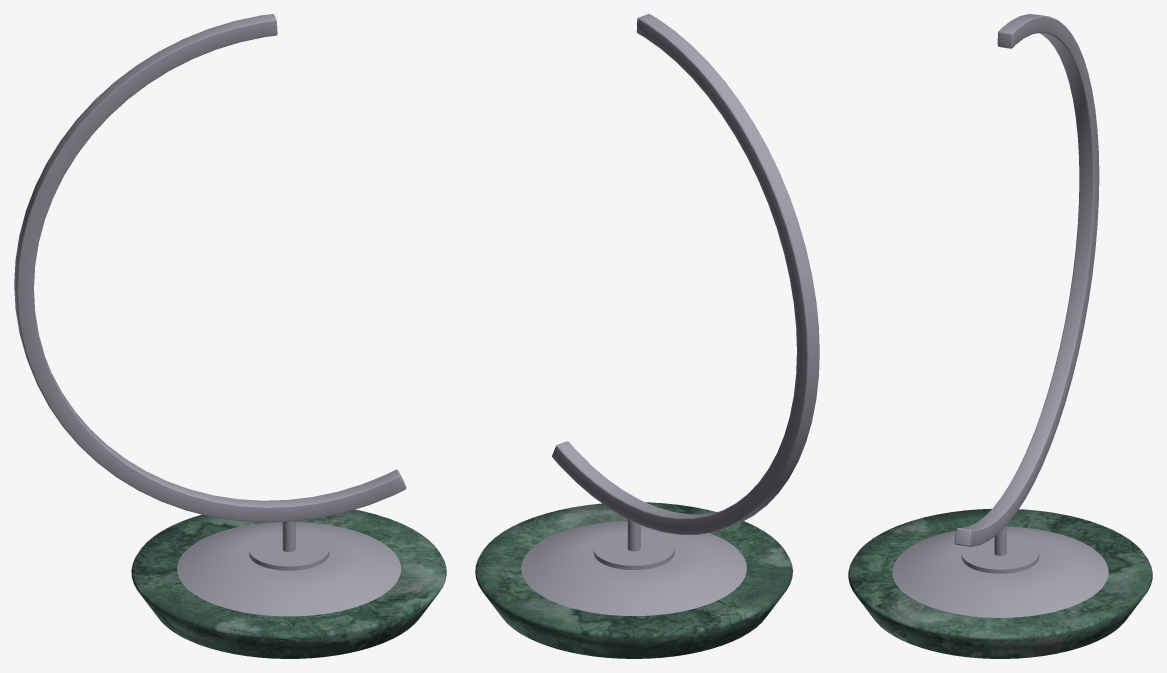
File: WorldMapStand.glb
The picture shows the model from 3 angles, left to right: view 1: azimuth 30°, elevation 25°; view 2: azimuth 150°, elevation 25°; view 3: azimuth 270°, elevation 25°; orthographic projection. The views are drawn at different scales.
Visible parts, largest first — view 1: WorldMapStand; view 2: WorldMapStand; view 3: WorldMapStand.
Boxes of the visible parts, bbox=[...] form: WorldMapStand: bbox=[14, 14, 446, 658]; WorldMapStand: bbox=[475, 14, 819, 658]; WorldMapStand: bbox=[848, 14, 1152, 658].
Size of the model in its own units: 2.67 by 4.1 by 2.
Materials: 2 (1 with a texture image).
